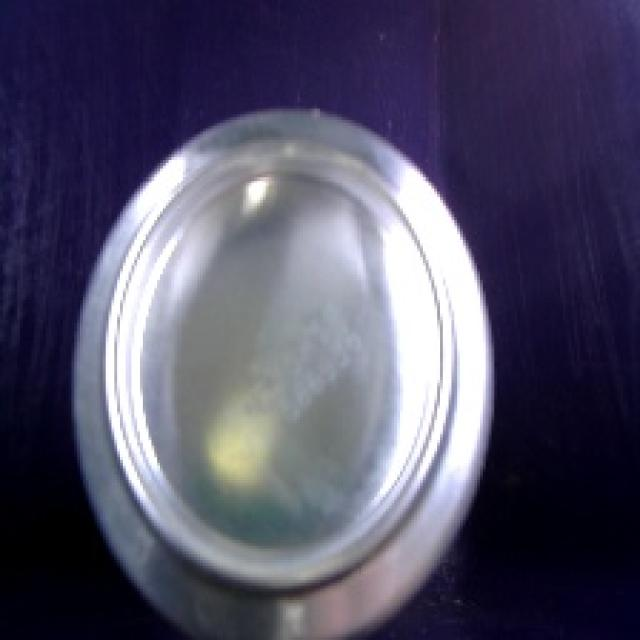metal: (56, 84, 516, 640)
